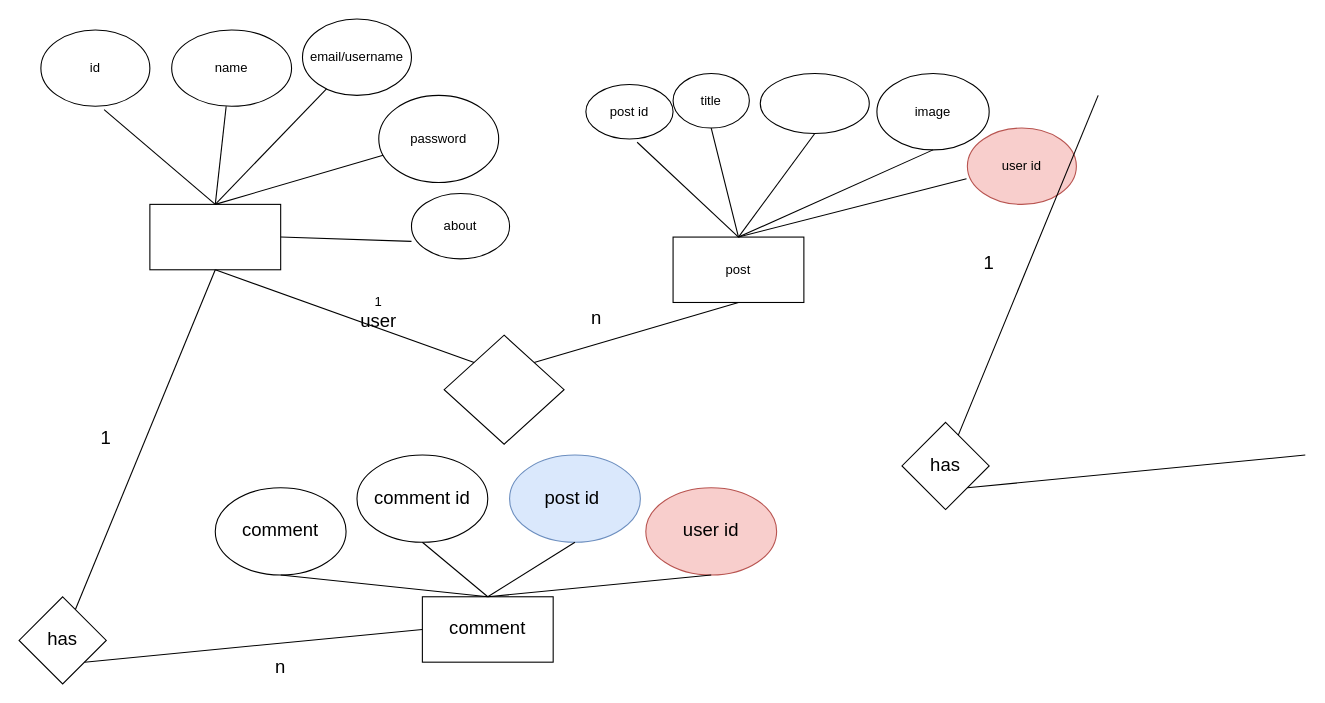
This 1325x703 diagram has some shape labels left out. The shapes that lost their labels are listed below. From the top down, each one's centre as x and y in pixels, then its label:
point (814, 103): content
point (215, 236): user
point (503, 389): user can create multiple post
